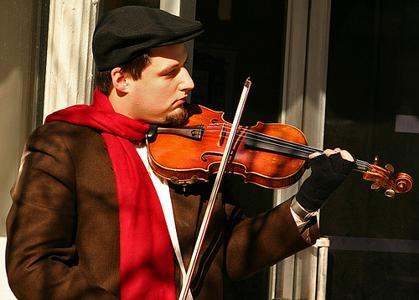person: (6, 4, 359, 300)
